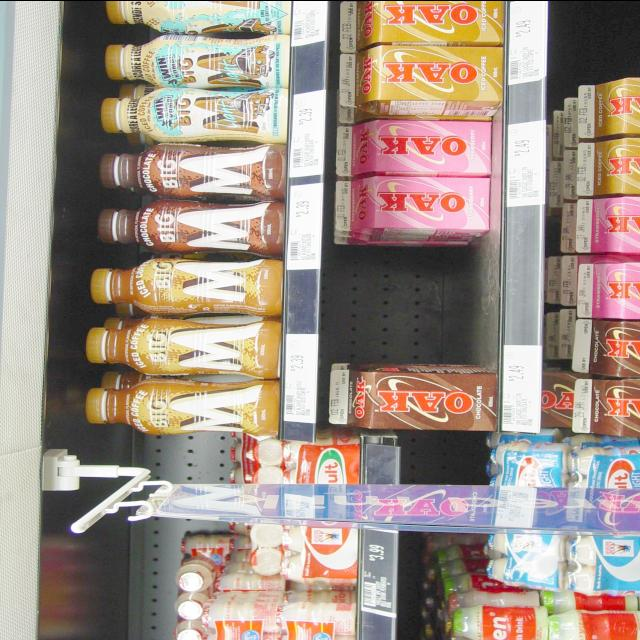empty_space: (341, 246, 478, 354), (572, 0, 632, 72)
